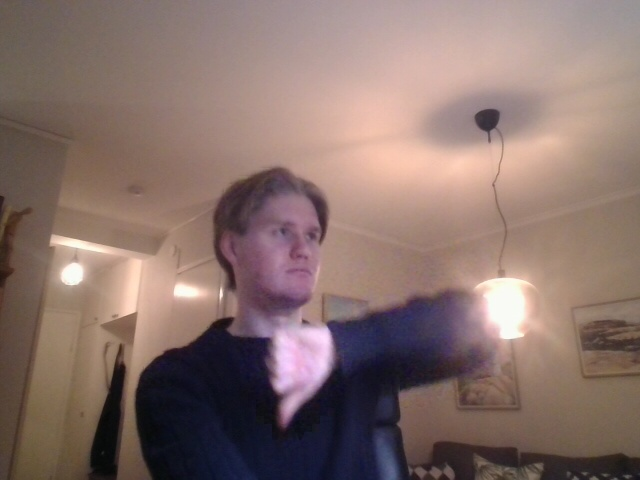ThumbsDown: (266, 321, 331, 430)
